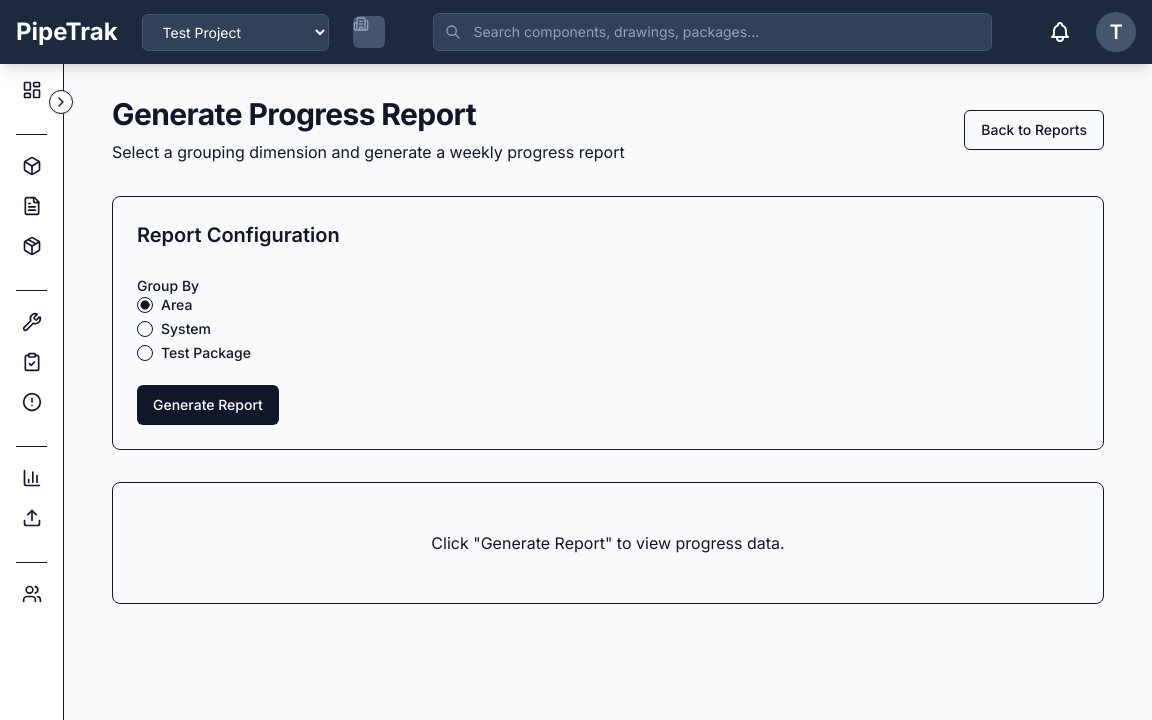
Test: Dimension Switching (Integration) › maintains consistent Grand Total Budget across all 3 dimensions
Note: Test Area dimension
What coordinates should you click on to do the following:
click the radio button named "Area" next to "Area"
I would click on:
 (145, 305)
Its box is [137,297,153,313].
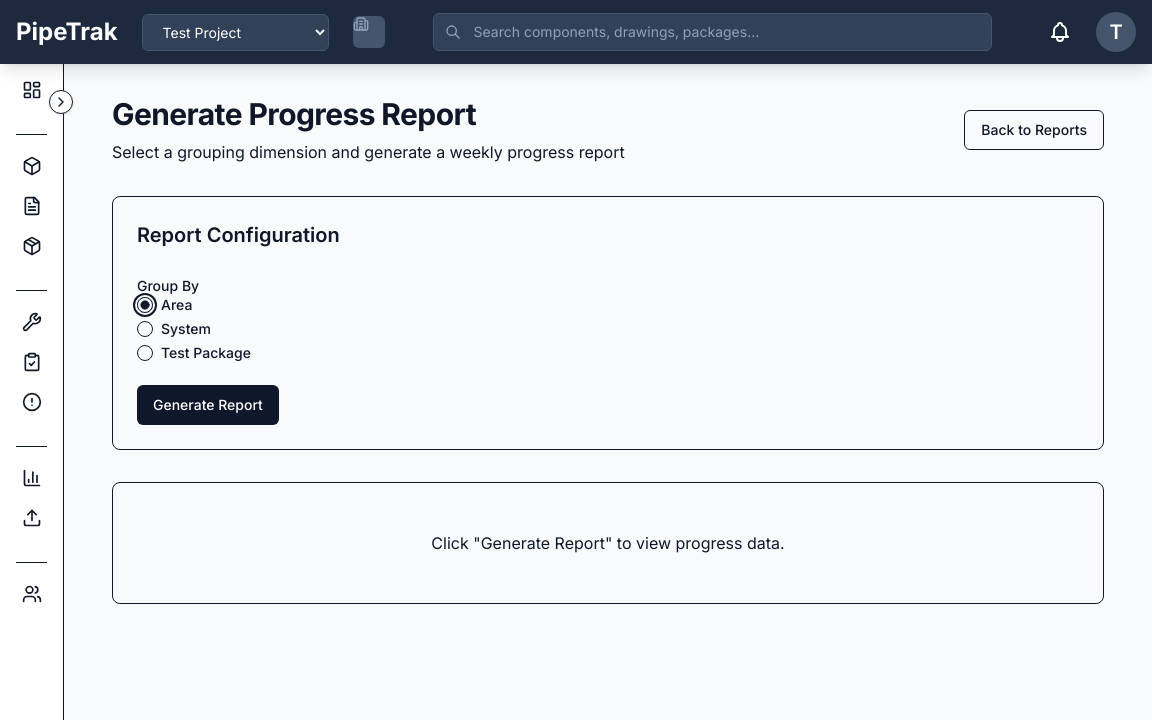
What coordinates should you click on to do the following:
click the button "Generate Report"
I would click on:
 (208, 405)
Its box is [137,385,279,425].
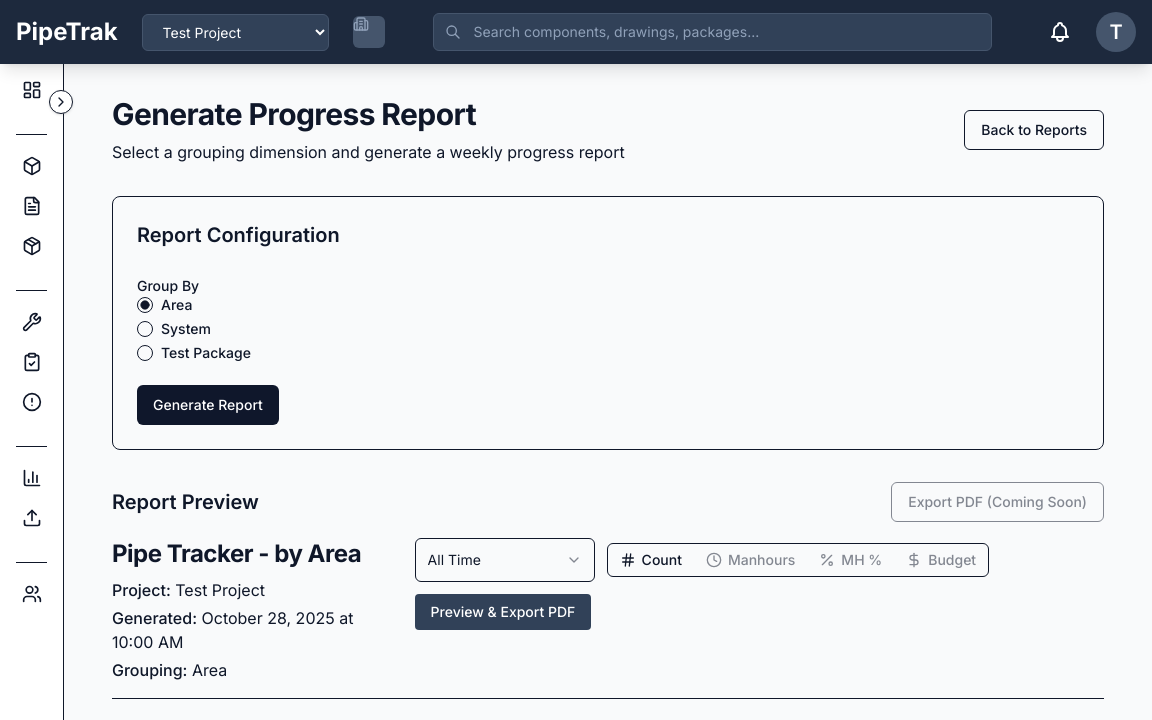
Note: Test System dimension
What coordinates should you click on to do the following:
click the radio button named "System" next to "System"
I would click on:
 (145, 329)
Its box is [137,321,153,337].
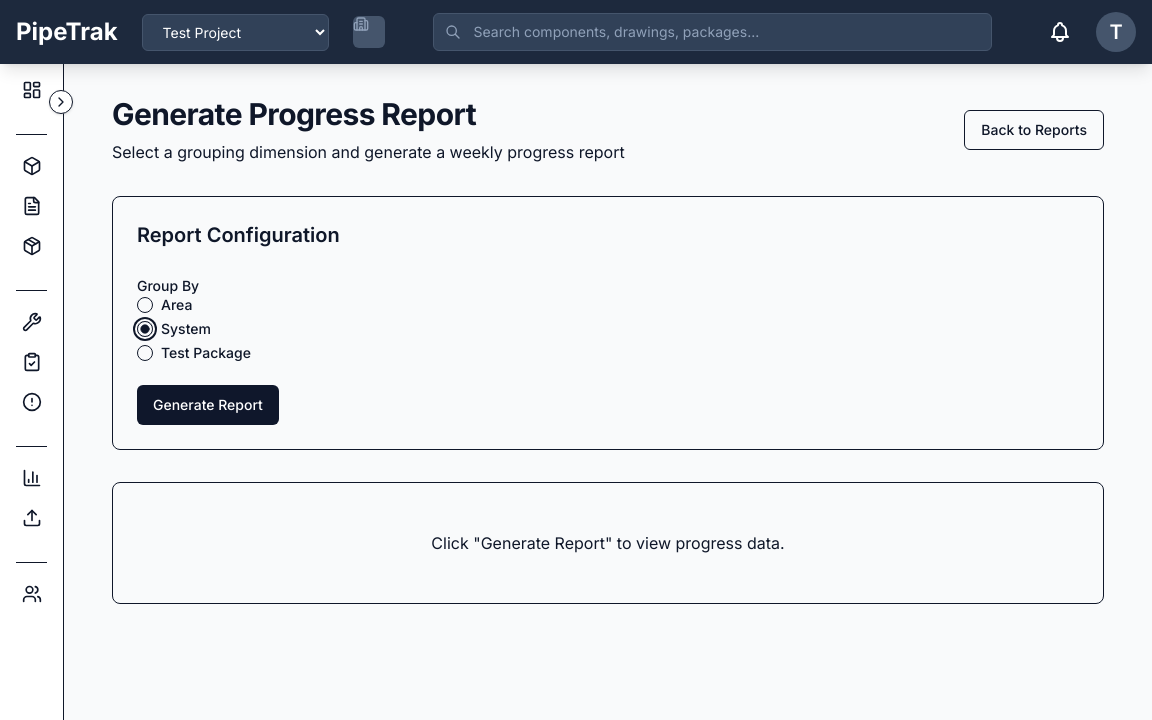
What coordinates should you click on to do the following:
click the button "Generate Report"
I would click on:
 (208, 405)
Its box is [137,385,279,425].
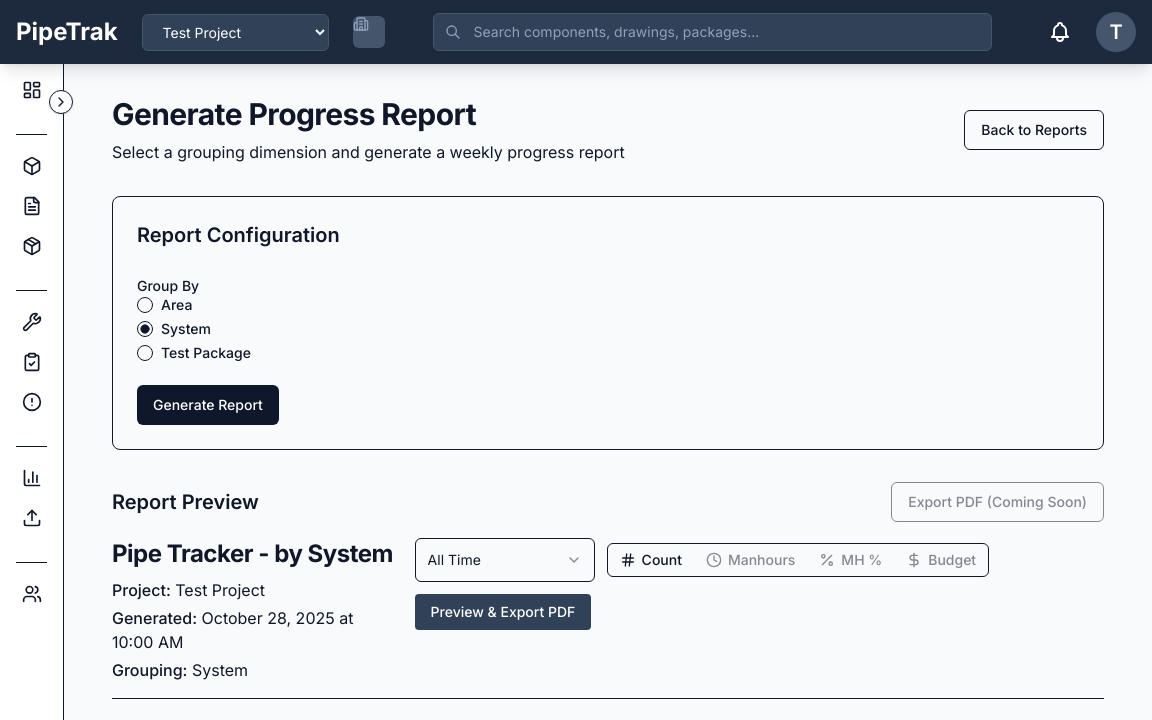
Note: Test Test Package dimension
What coordinates should you click on to do the following:
click the radio button named "Test Package" next to "Test Package"
I would click on:
 (145, 353)
Its box is [137,345,153,361].
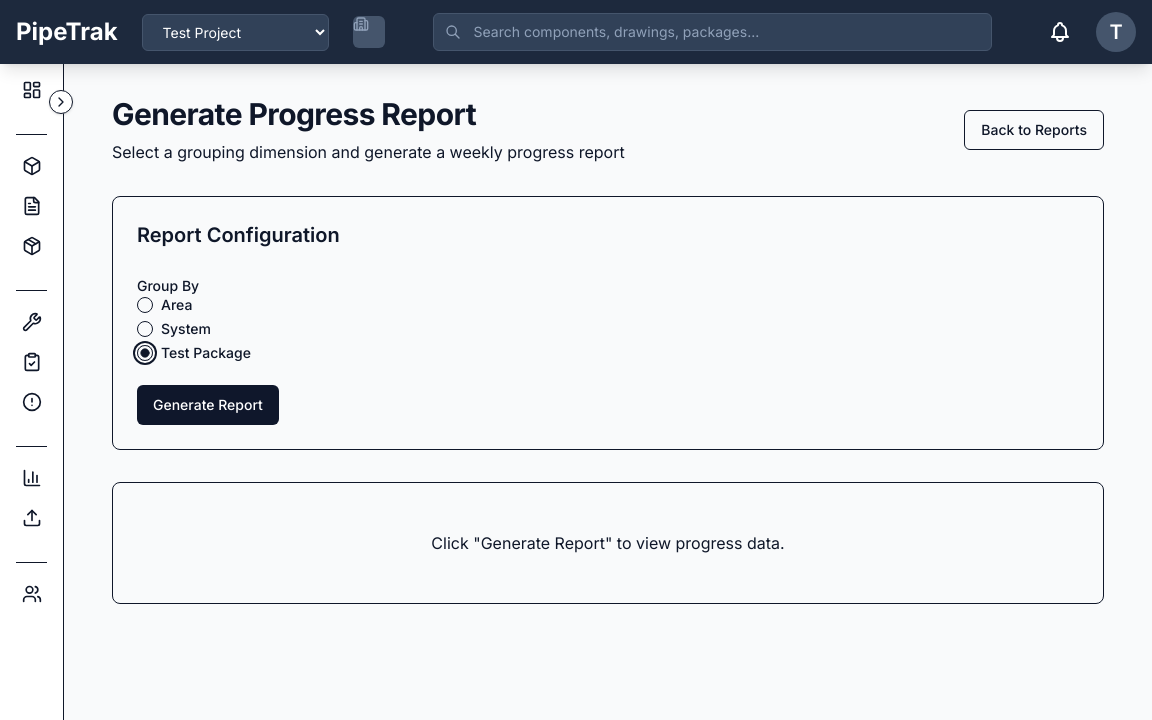
What coordinates should you click on to do the following:
click the button "Generate Report"
I would click on:
 (208, 405)
Its box is [137,385,279,425].
(page scrolled)
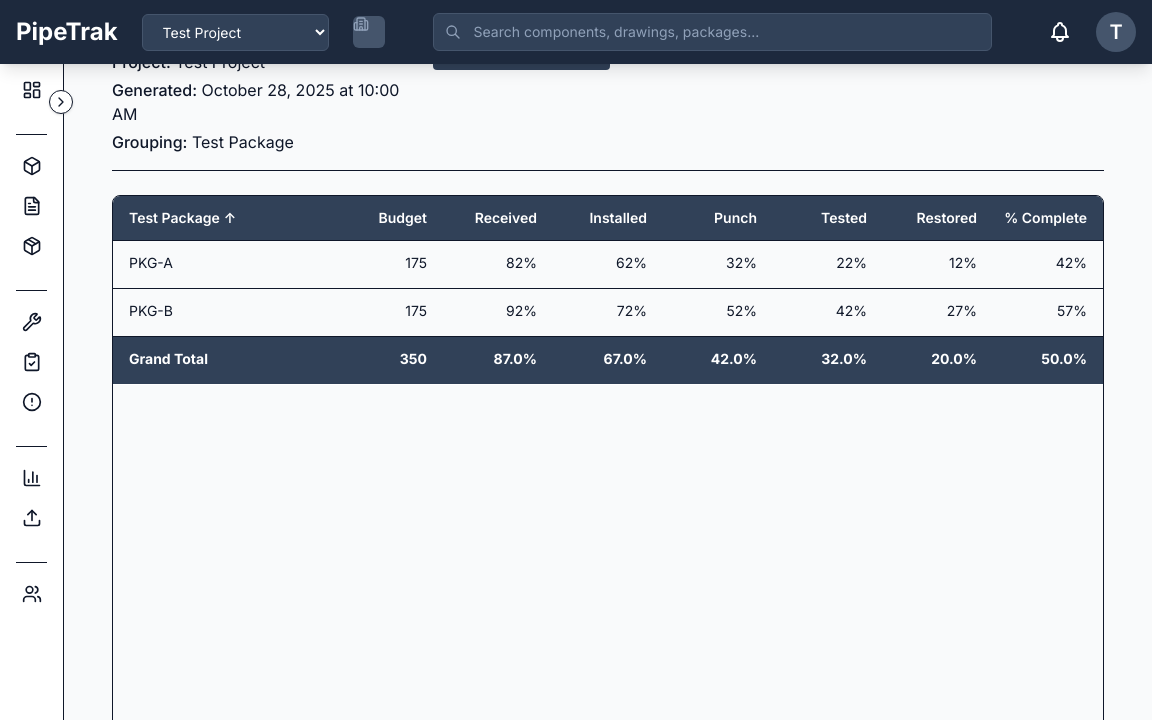
expect the text "PKG-A" is shown: met, box [129,254,173,271]
expect the text "350" is shown: met, box [400,350,427,367]
